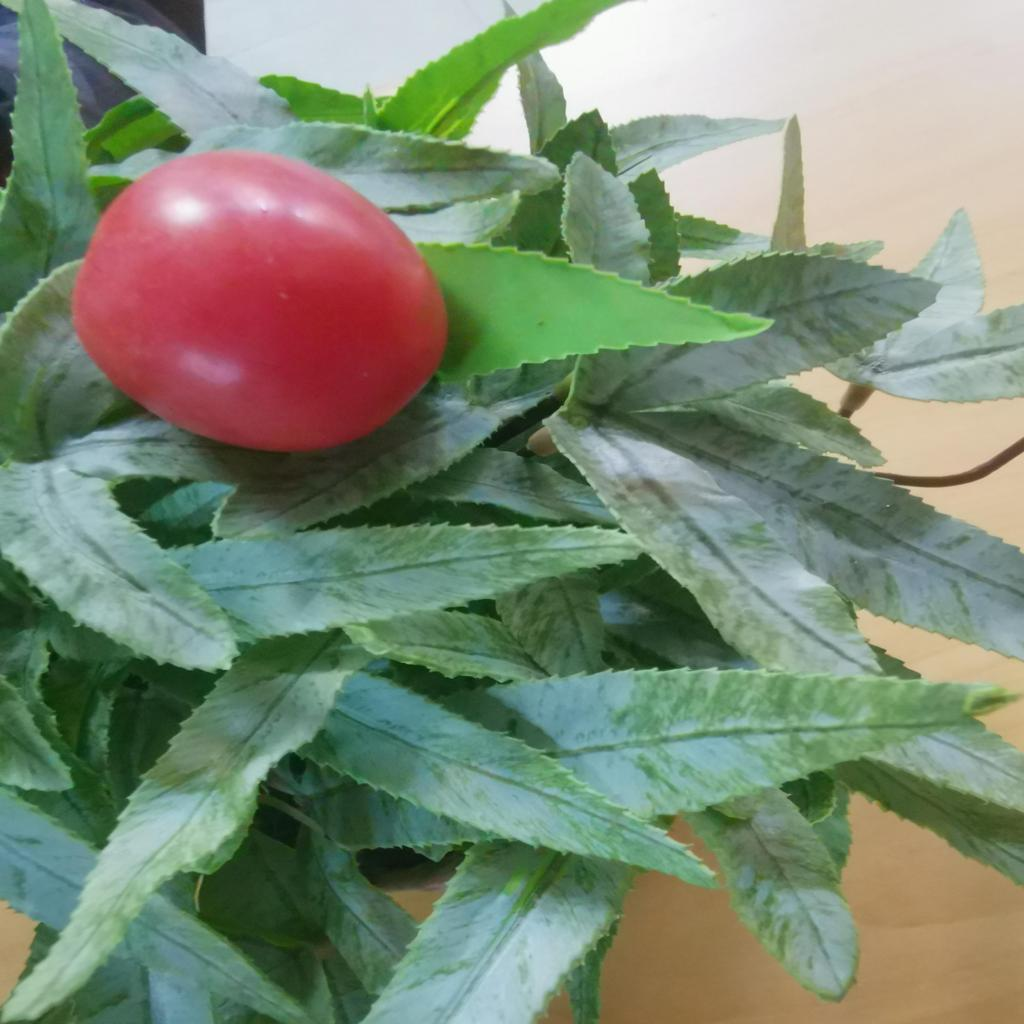tomato: (58, 156, 457, 454)
